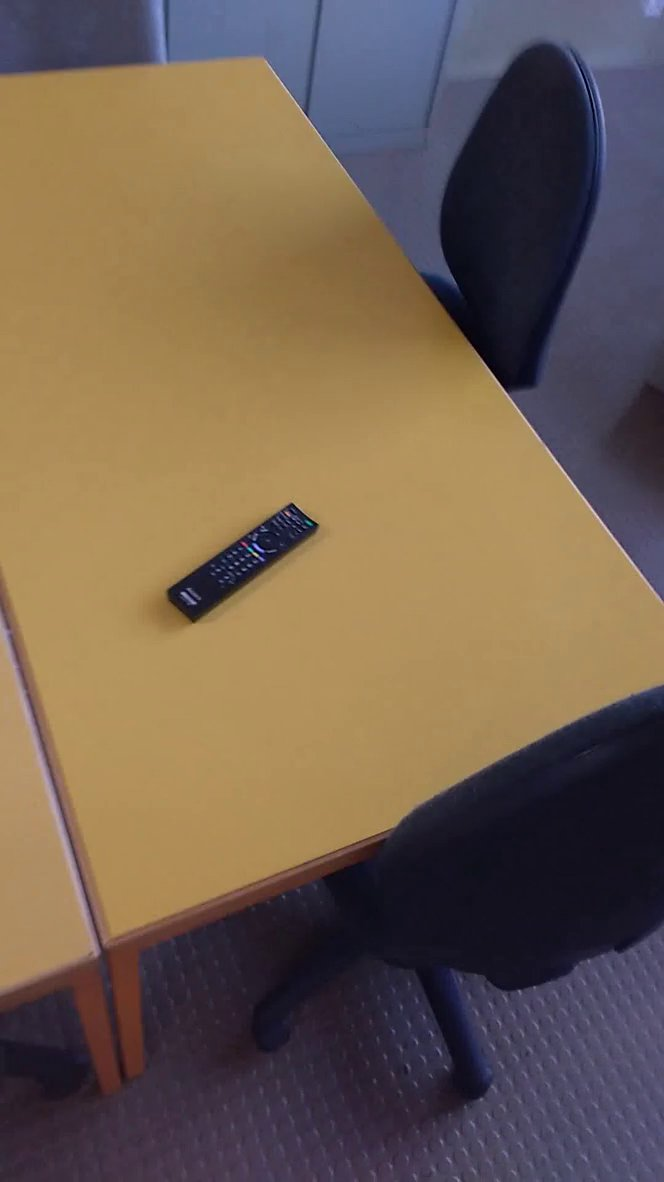chair: (397, 25, 620, 424)
remote: (163, 498, 338, 635)
